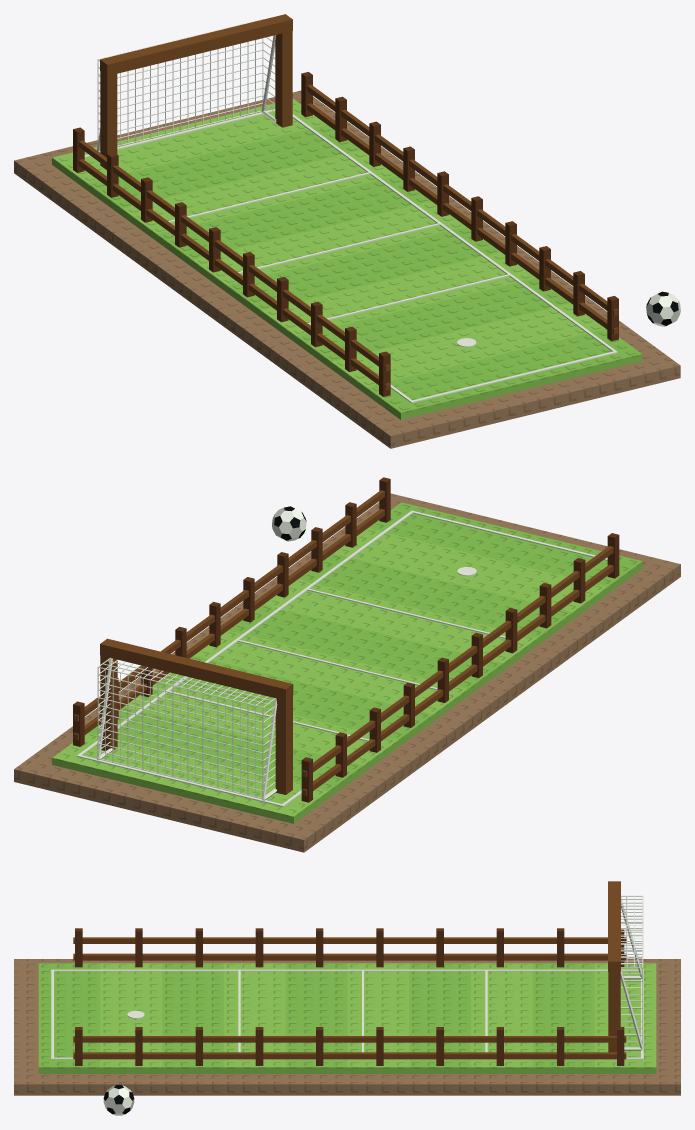
Rendered from backyard-field-with-ball.fbx.
The picture shows the model from 3 angles, top to bottom: view 1: azimuth 30°, elevation 25°; view 2: azimuth 150°, elevation 25°; view 3: azimuth 270°, elevation 25°; orthographic projection. The views are drawn at different scales.
Parts seen in each view (by area): view 1: BF_Grass_Stripes, BF_Earth_Base, BF_Fence_Rails, BF_Fence_Posts, BF_Goal_Timber, BF_Goal_Net, BF_Grass_Bed, BF_White_Markings, BF_Football; view 2: BF_Grass_Stripes, BF_Earth_Base, BF_Fence_Rails, BF_Fence_Posts, BF_Goal_Net, BF_Goal_Timber, BF_Grass_Bed, BF_White_Markings, BF_Football, BF_Goal_Supports; view 3: BF_Grass_Stripes, BF_Earth_Base, BF_Fence_Rails, BF_Fence_Posts, BF_Grass_Bed, BF_White_Markings, BF_Goal_Timber, BF_Goal_Net, BF_Football, BF_Goal_Supports.
Part boxes in pixels (bbox=[...]): BF_Grass_Stripes: bbox=[52, 98, 641, 412]; BF_Earth_Base: bbox=[14, 90, 680, 448]; BF_Fence_Rails: bbox=[78, 84, 618, 390]; BF_Fence_Posts: bbox=[73, 72, 618, 396]; BF_Goal_Timber: bbox=[100, 14, 292, 169]; BF_Goal_Net: bbox=[97, 19, 275, 146]; BF_Grass_Bed: bbox=[52, 158, 642, 419]; BF_White_Markings: bbox=[84, 109, 617, 403]; BF_Football: bbox=[646, 291, 680, 326]; BF_Grass_Stripes: bbox=[52, 502, 642, 816]; BF_Earth_Base: bbox=[14, 493, 680, 852]; BF_Fence_Rails: bbox=[73, 490, 613, 795]; BF_Fence_Posts: bbox=[73, 477, 619, 802]; BF_Goal_Net: bbox=[97, 658, 275, 798]; BF_Goal_Timber: bbox=[100, 638, 293, 794]; BF_Grass_Bed: bbox=[52, 561, 642, 823]; BF_White_Markings: bbox=[76, 510, 607, 806]; BF_Football: bbox=[272, 506, 306, 541]; BF_Goal_Supports: bbox=[96, 658, 277, 800]; BF_Grass_Stripes: bbox=[38, 963, 656, 1067]; BF_Earth_Base: bbox=[14, 959, 680, 1095]; BF_Fence_Rails: bbox=[73, 937, 626, 1059]; BF_Fence_Posts: bbox=[75, 928, 624, 1065]; BF_Grass_Bed: bbox=[38, 963, 656, 1073]; BF_White_Markings: bbox=[51, 969, 643, 1059]; BF_Goal_Timber: bbox=[608, 881, 620, 1052]; BF_Goal_Net: bbox=[621, 895, 643, 1045]; BF_Football: bbox=[103, 1085, 134, 1115]; BF_Goal_Supports: bbox=[620, 897, 643, 1050].
Size of the model in its own units: 1149 by 398 by 2160.
7 materials, 7 textured.
